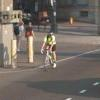Bicycle: (36, 37, 70, 79)
